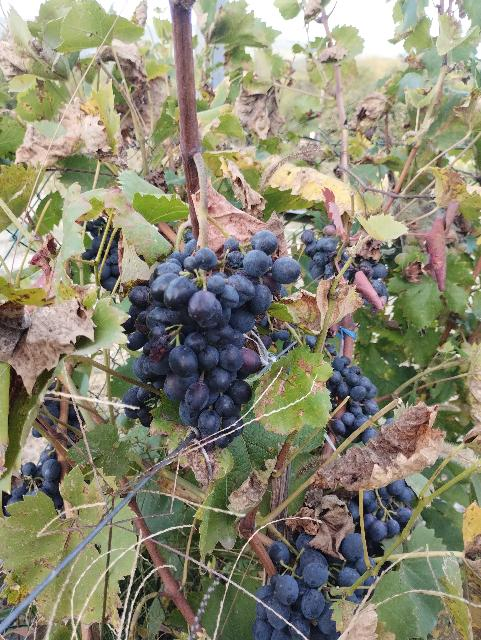grapes: (129, 231, 300, 450)
